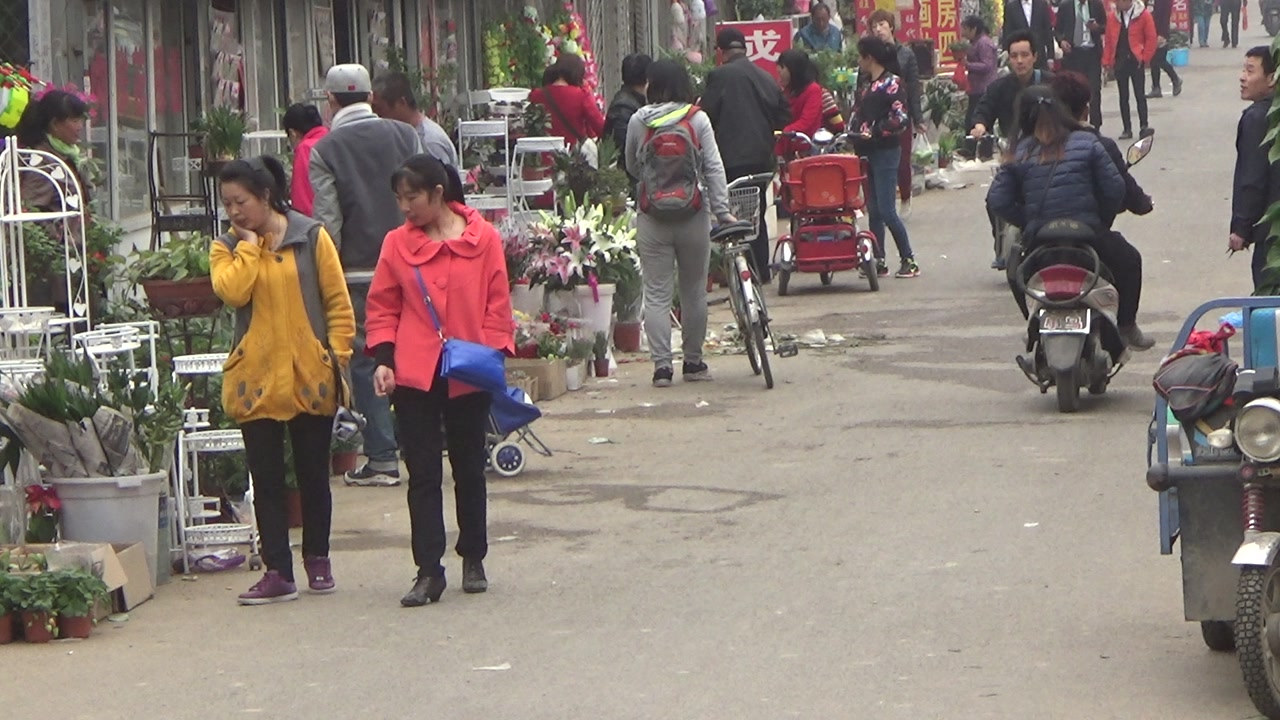person_cycling: (986, 69, 1156, 414)
person_normal: (365, 154, 515, 606), (210, 154, 356, 604), (307, 64, 425, 487), (625, 59, 737, 387), (697, 27, 792, 285), (848, 36, 921, 278), (1101, 1, 1158, 141), (1055, 1, 1107, 131), (956, 15, 996, 160)
visperson_cycling: (966, 29, 1055, 270), (1258, 1, 1280, 37)
visperson_normal: (16, 90, 88, 308), (857, 8, 929, 218), (1226, 46, 1280, 297), (372, 72, 458, 167), (527, 53, 605, 145), (603, 53, 653, 185), (283, 102, 330, 217), (775, 49, 823, 158), (1142, 1, 1183, 98), (1003, 1, 1055, 70), (806, 60, 845, 135), (794, 3, 842, 56), (1216, 1, 1248, 48), (1193, 1, 1215, 48), (541, 63, 556, 85)
